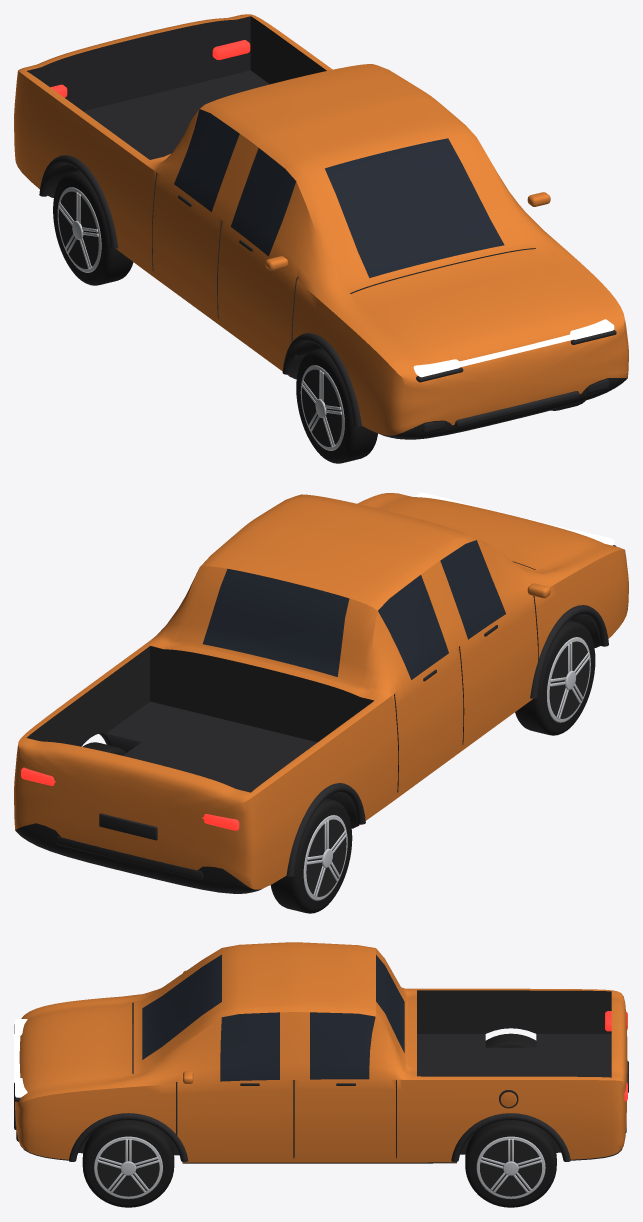
File: pickup.glb
3 views of the same model, one above another, from view 1: azimuth 30°, elevation 25°; view 2: azimuth 150°, elevation 25°; view 3: azimuth 270°, elevation 25° (orthographic). The views are drawn at different scales.
Visible parts, largest first — view 1: pickup; view 2: pickup; view 3: pickup.
Boxes of the visible parts, <box> form: pickup: <box>14,14,628,463</box>; pickup: <box>14,492,628,913</box>; pickup: <box>14,942,628,1207</box>.
Size of the model in its own units: 2.23 by 1.84 by 5.37.
